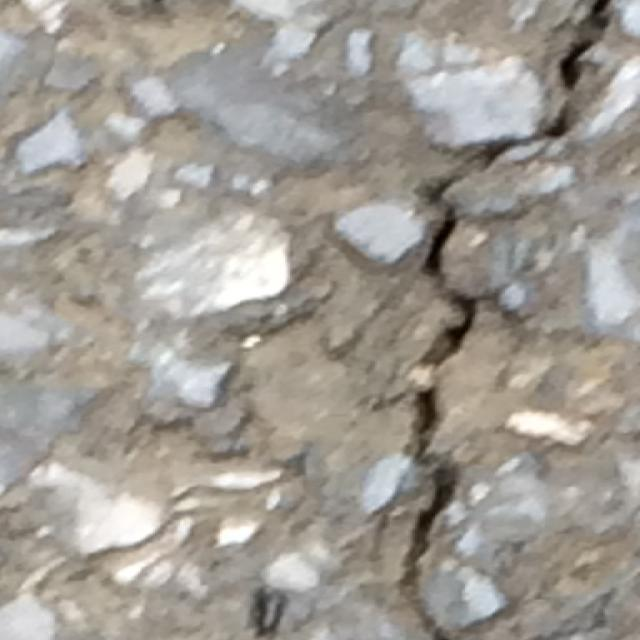Longitudinal: (404, 0, 588, 640)
Turtle-shell patterned: (2, 0, 385, 640)
